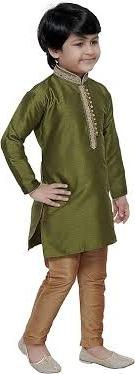Human: (8, 4, 132, 370)
